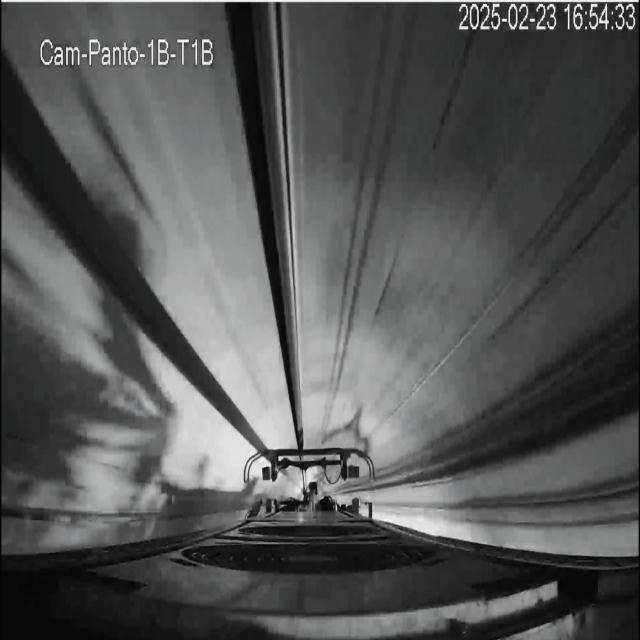Camera Stamp: (39, 34, 219, 69)
Date Stamp: (459, 3, 637, 33)
No - Spark: (245, 447, 375, 518)
